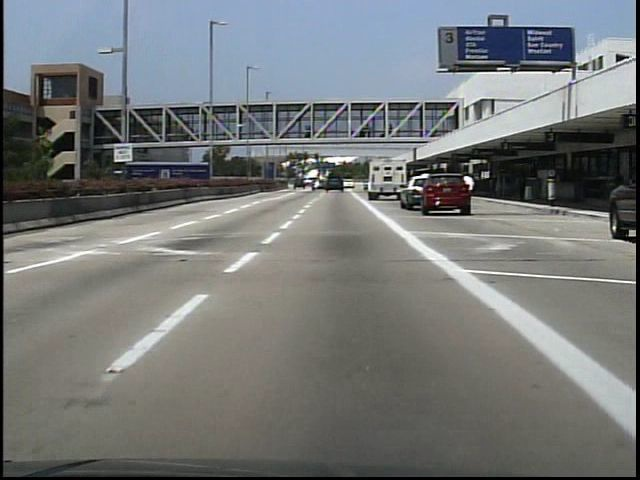person: (461, 173, 479, 212)
